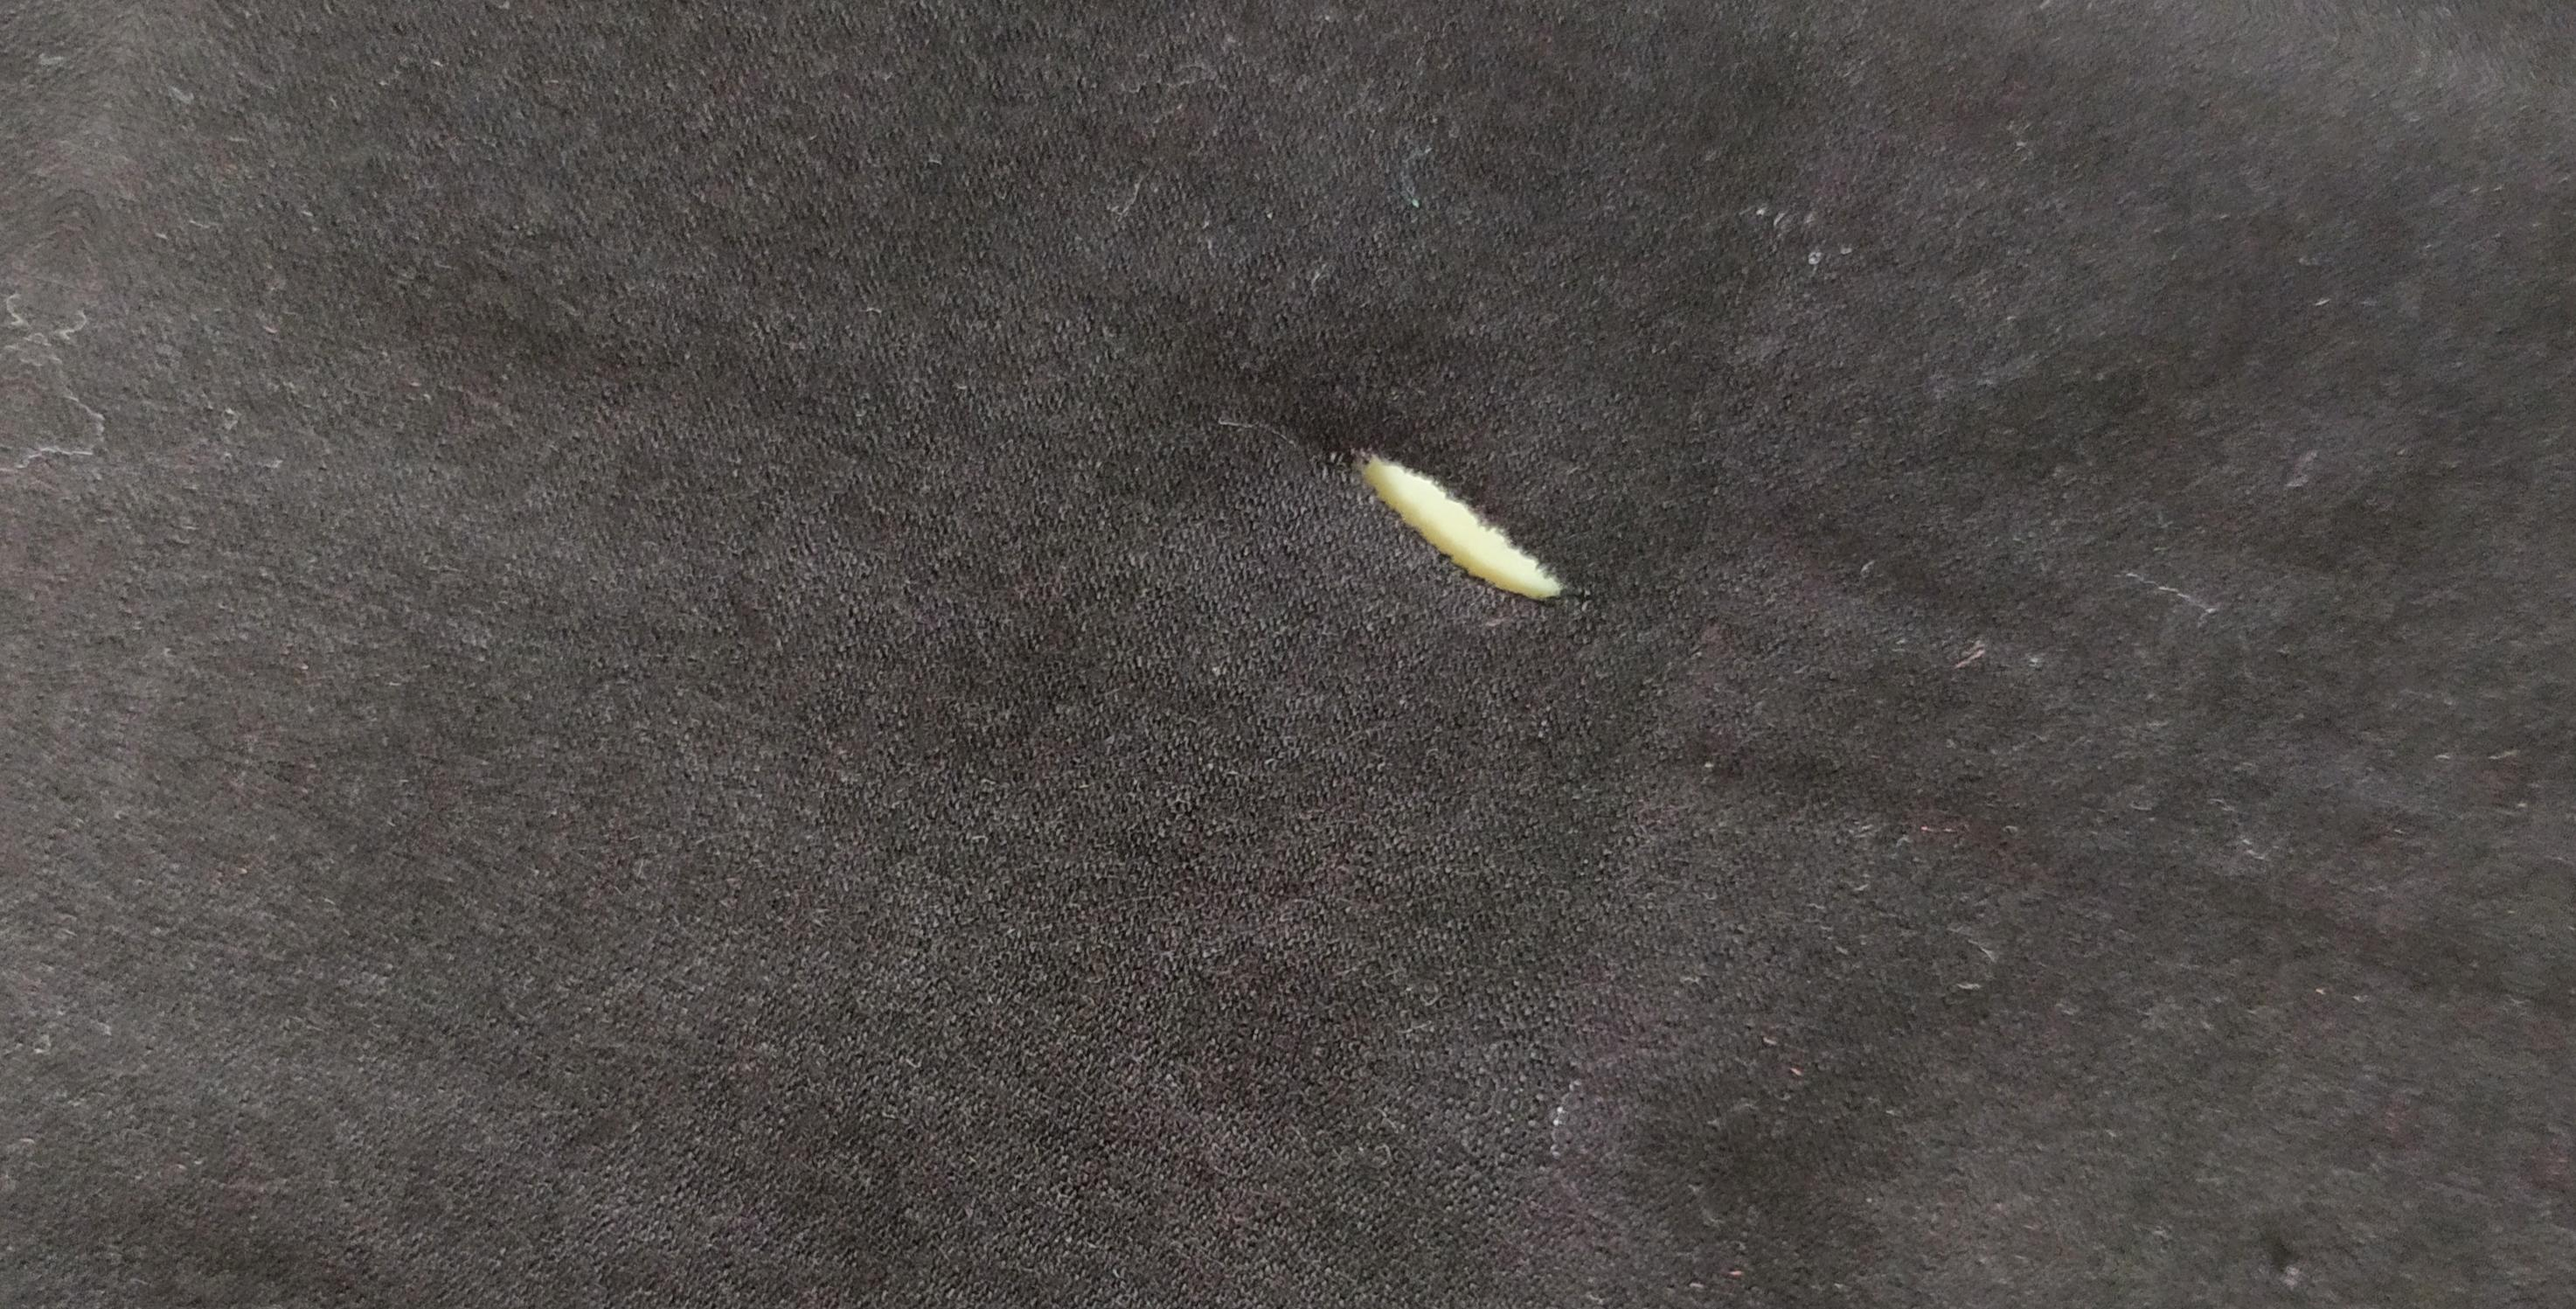hole: (1340, 412, 1587, 646)
